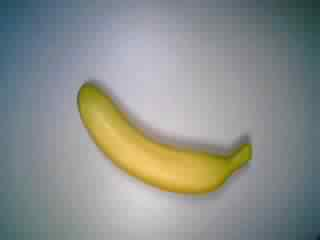banana: (73, 74, 257, 203)
